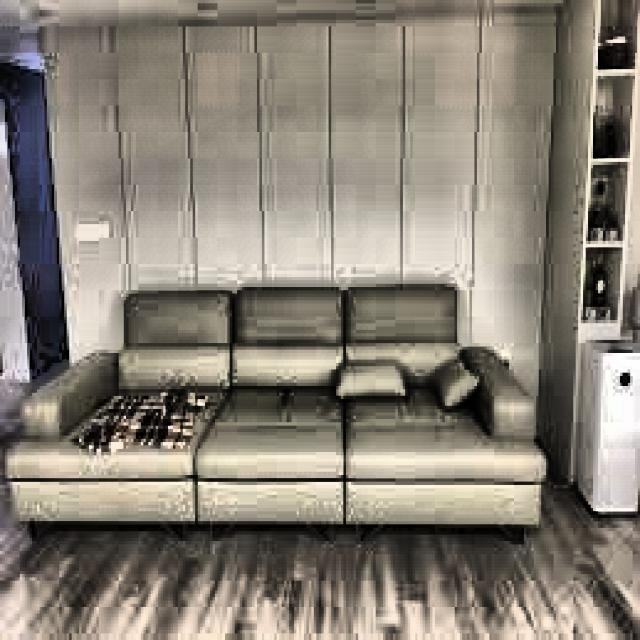sofa: (15, 287, 563, 534)
